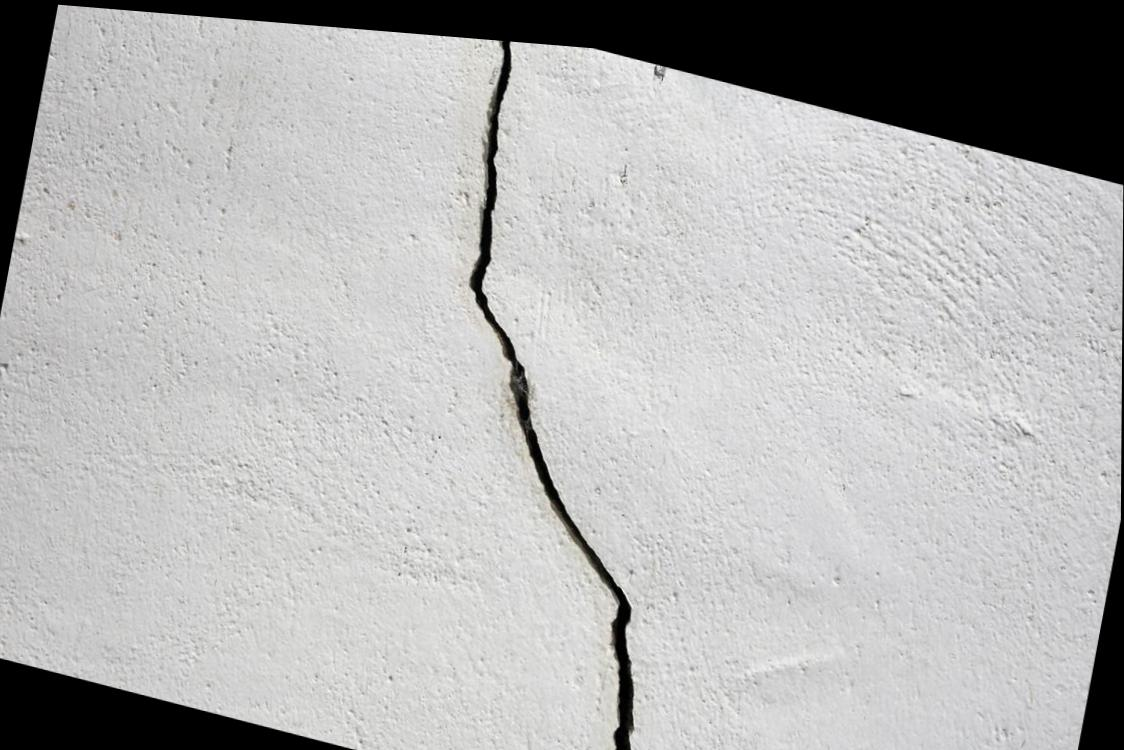crack: (469, 32, 636, 750)
